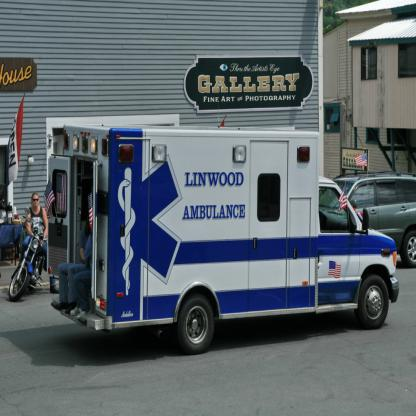Ambulance: (47, 88, 399, 355)
Car: (332, 173, 416, 266)
